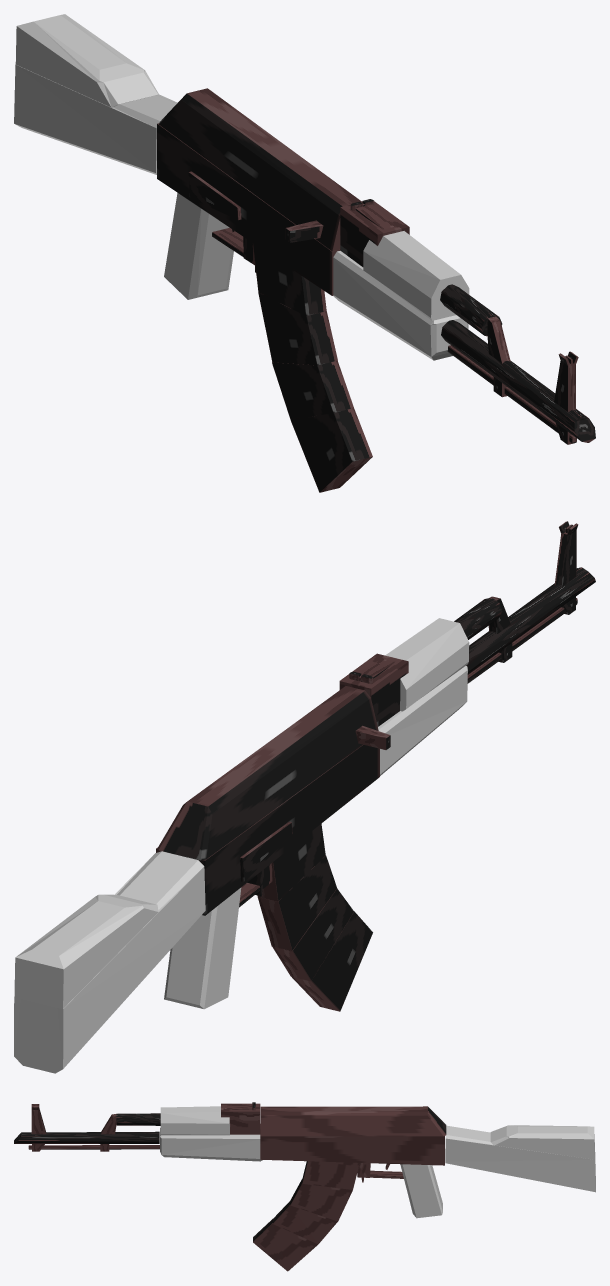
The model's file is AKM.obj.
The picture shows the model from 3 angles, top to bottom: view 1: azimuth 30°, elevation 25°; view 2: azimuth 150°, elevation 25°; view 3: azimuth 270°, elevation 25°; orthographic projection. The views are drawn at different scales.
Visible parts, largest first — view 1: Dustcover, Stock, Receiver, Cheekrest, Handguard_Bottom, Handguard_Top, Grip, Mag_4, Barrel, Mag_2, Mag_3, Mag_1 (+8 smaller); view 2: Dustcover, Stock, Cheekrest, Receiver, Grip, Handguard_Top, Handguard_Bottom, Mag_2, Mag_4, Barrel, Mag_3, Mag_1 (+5 smaller); view 3: Dustcover, Receiver, Stock, Cheekrest, Handguard_Bottom, Handguard_Top, Grip, Mag_4, Barrel, Mag_2, Mag_3, Mag_1 (+5 smaller).
Part boxes in pixels (box(x1,y1,x2,y2)): Dustcover: box(159, 88, 361, 251); Stock: box(14, 64, 177, 174); Receiver: box(157, 123, 340, 295); Cheekrest: box(15, 14, 158, 107); Handguard_Bottom: box(333, 250, 468, 360); Handguard_Top: box(363, 231, 469, 320); Grip: box(164, 192, 233, 299); Mag_4: box(290, 408, 372, 492); Barrel: box(441, 320, 595, 442); Mag_2: box(258, 292, 337, 365); Mag_3: box(272, 360, 353, 419); Mag_1: box(253, 243, 326, 315); Dustcover: box(158, 686, 378, 860); Stock: box(14, 851, 205, 1073); Cheekrest: box(14, 894, 158, 1008); Receiver: box(156, 744, 379, 915); Grip: box(164, 887, 241, 1009); Handguard_Top: box(385, 618, 469, 711); Handguard_Bottom: box(378, 666, 467, 775); Mag_2: box(257, 855, 336, 951); Mag_4: box(291, 911, 372, 1011); Barrel: box(466, 567, 595, 674); Mag_3: box(272, 888, 353, 981); Mag_1: box(257, 823, 325, 901); Dustcover: box(260, 1106, 446, 1136); Receiver: box(260, 1124, 444, 1165); Stock: box(445, 1125, 595, 1192); Cheekrest: box(490, 1125, 594, 1159); Handguard_Bottom: box(160, 1128, 262, 1161); Handguard_Top: box(160, 1106, 229, 1135); Grip: box(400, 1164, 442, 1218); Mag_4: box(253, 1219, 317, 1271); Barrel: box(14, 1131, 159, 1143); Mag_2: box(290, 1179, 352, 1221); Mag_3: box(273, 1201, 337, 1244); Mag_1: box(302, 1161, 359, 1189).
Size of the model in its own units: 3.08 by 12.07 by 38.71.
